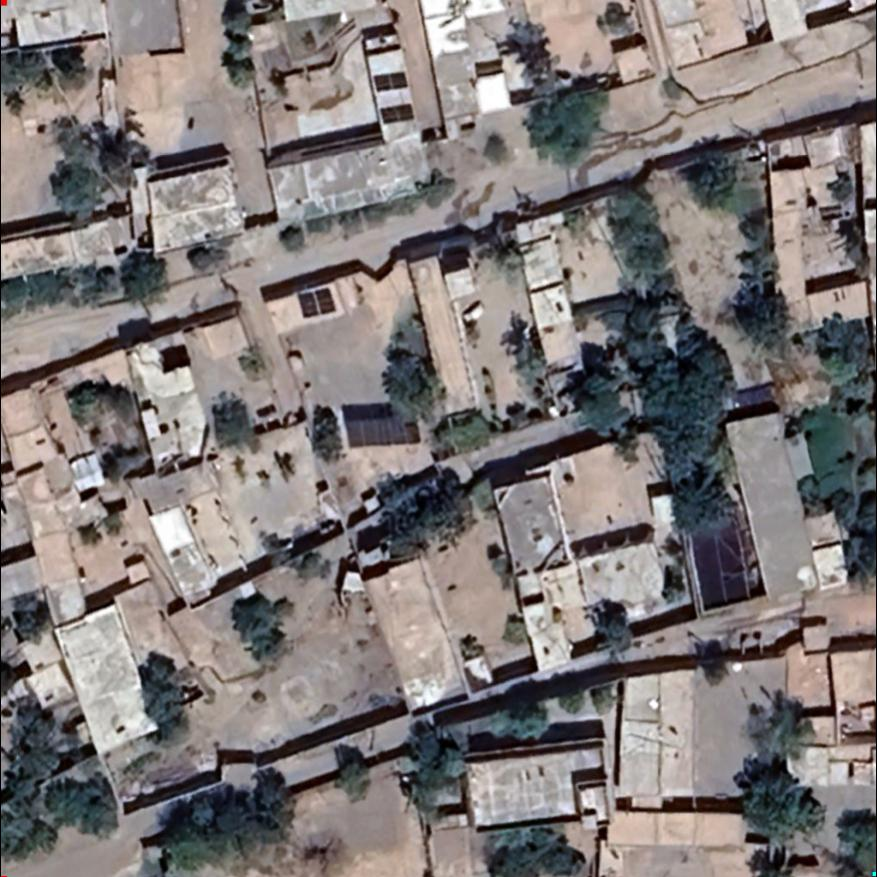Solarpanel: (341, 412, 426, 450), (291, 281, 341, 324), (375, 99, 420, 130), (370, 67, 411, 95)
